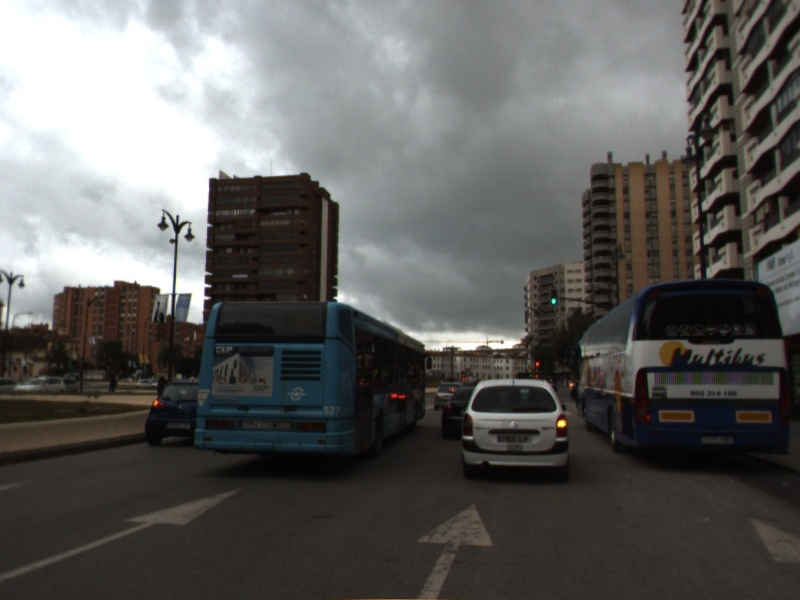STRAIGHT: (1, 485, 250, 582), (412, 499, 498, 600)
